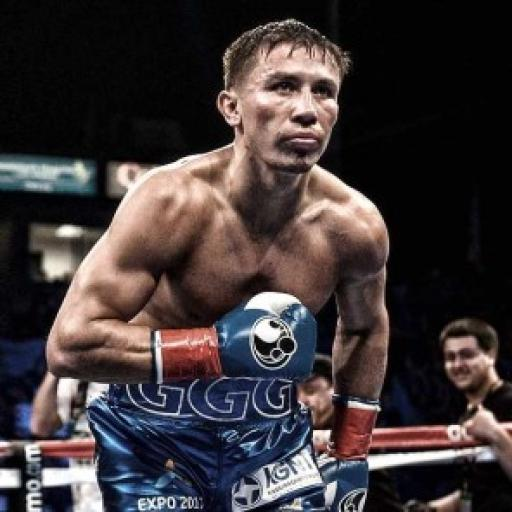boxing: (43, 17, 393, 510)
